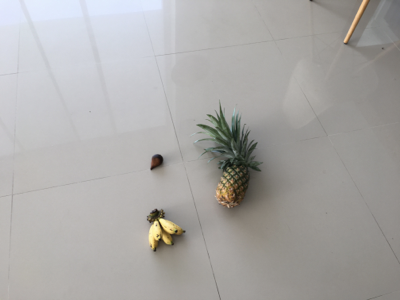banana: (147, 210, 186, 254)
pineapple: (195, 102, 262, 210)
snake fruit: (150, 154, 164, 171)
